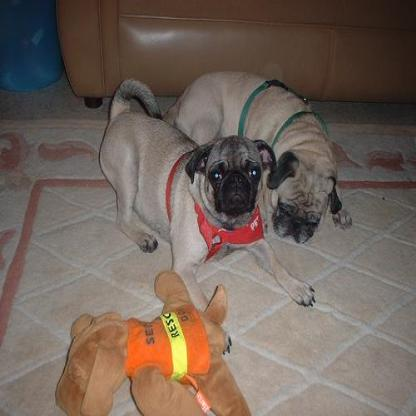pug: (98, 79, 316, 358), (99, 84, 315, 358), (160, 68, 352, 243)
